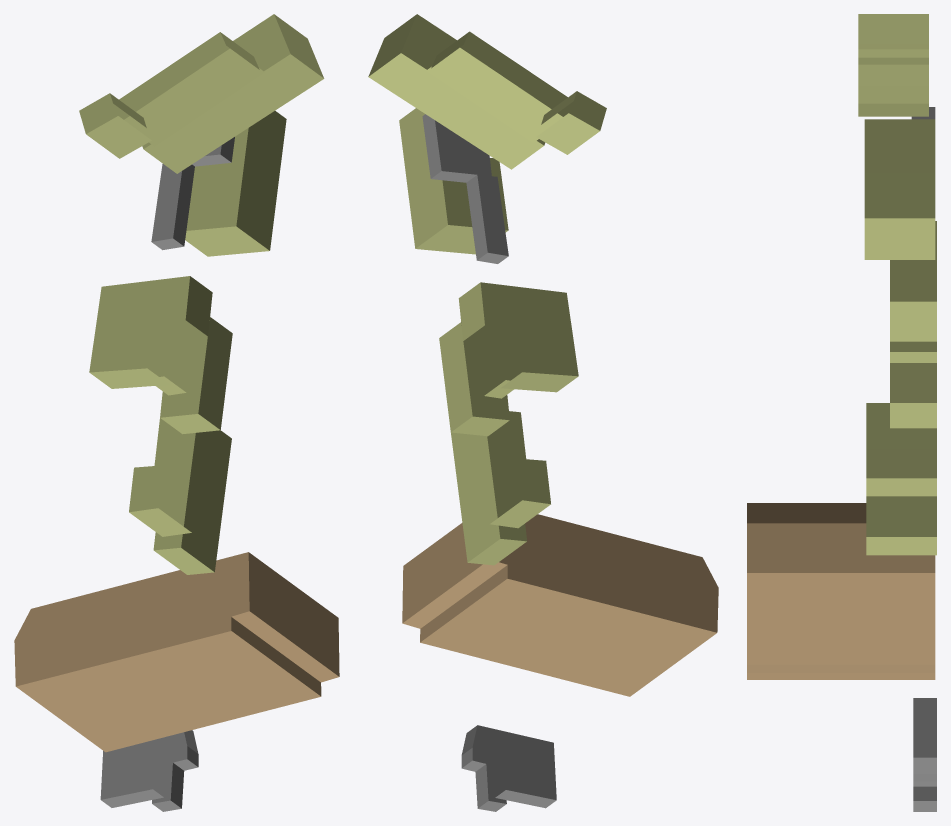
3 views of the same model, side by side, from view 1: azimuth 30°, elevation 25°; view 2: azimuth 150°, elevation 25°; view 3: azimuth 270°, elevation 25° (orthographic). The views are drawn at different scales.
Visible parts, largest first — view 1: 0_3_1_0_3_3_3; view 2: 0_3_1_0_3_3_3; view 3: 0_3_1_0_3_3_3.
Part boxes in pixels (bbox=[...]): 0_3_1_0_3_3_3: bbox=[14, 14, 339, 811]; 0_3_1_0_3_3_3: bbox=[368, 14, 718, 811]; 0_3_1_0_3_3_3: bbox=[747, 14, 936, 811].
Bounding box in the file's own units: 42.1 × 113 × 24.2.
